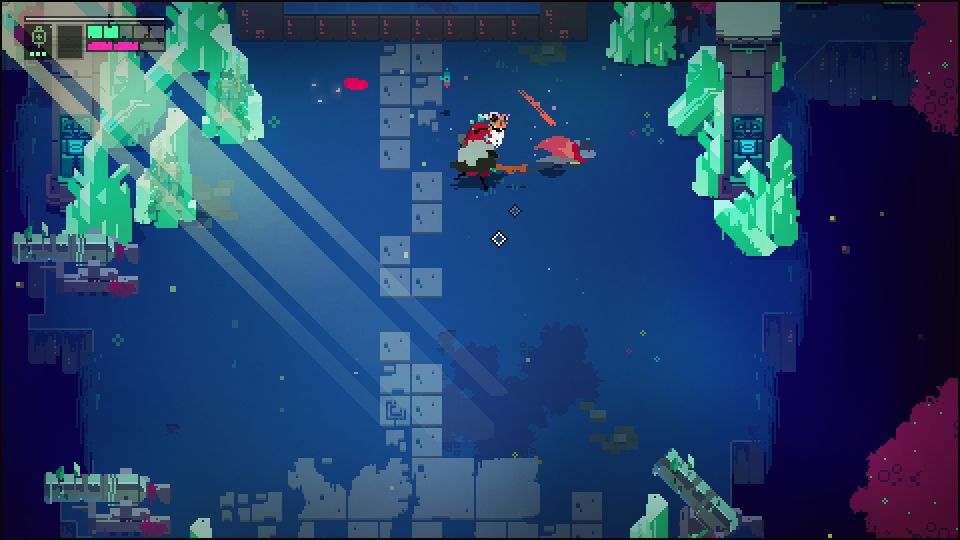hanged_man: (445, 108, 531, 189)
player: (535, 135, 596, 171)
